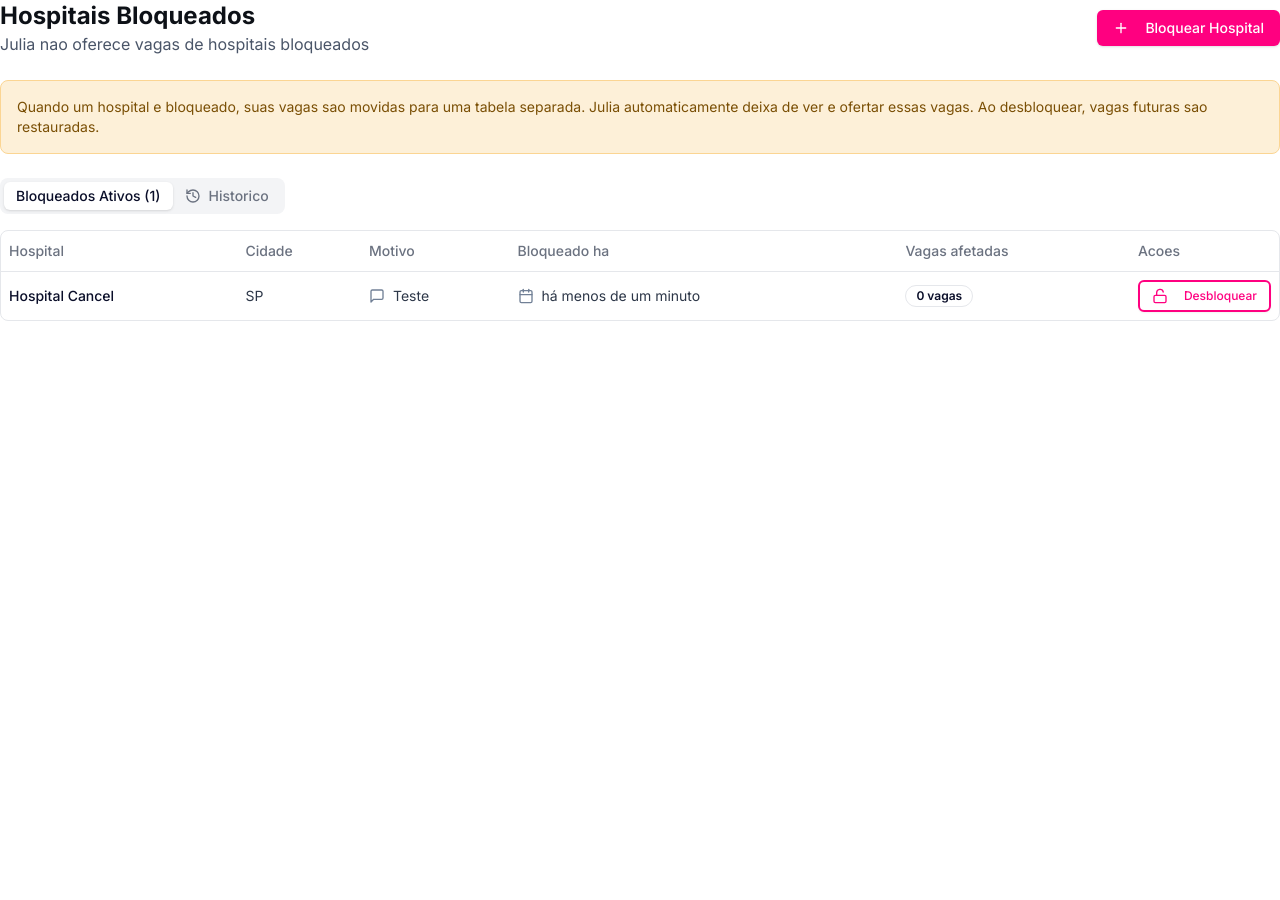
Test case: HospitaisBloqueadosPage › closes confirmation dialog when cancel is clicked
Expected: the text "Hospital Cancel" is shown, x1=1 y1=271 x2=237 y2=320
# Click desbloquear
Click the button "Desbloquear": (1204, 296) x1=1138 y1=280 x2=1271 y2=312
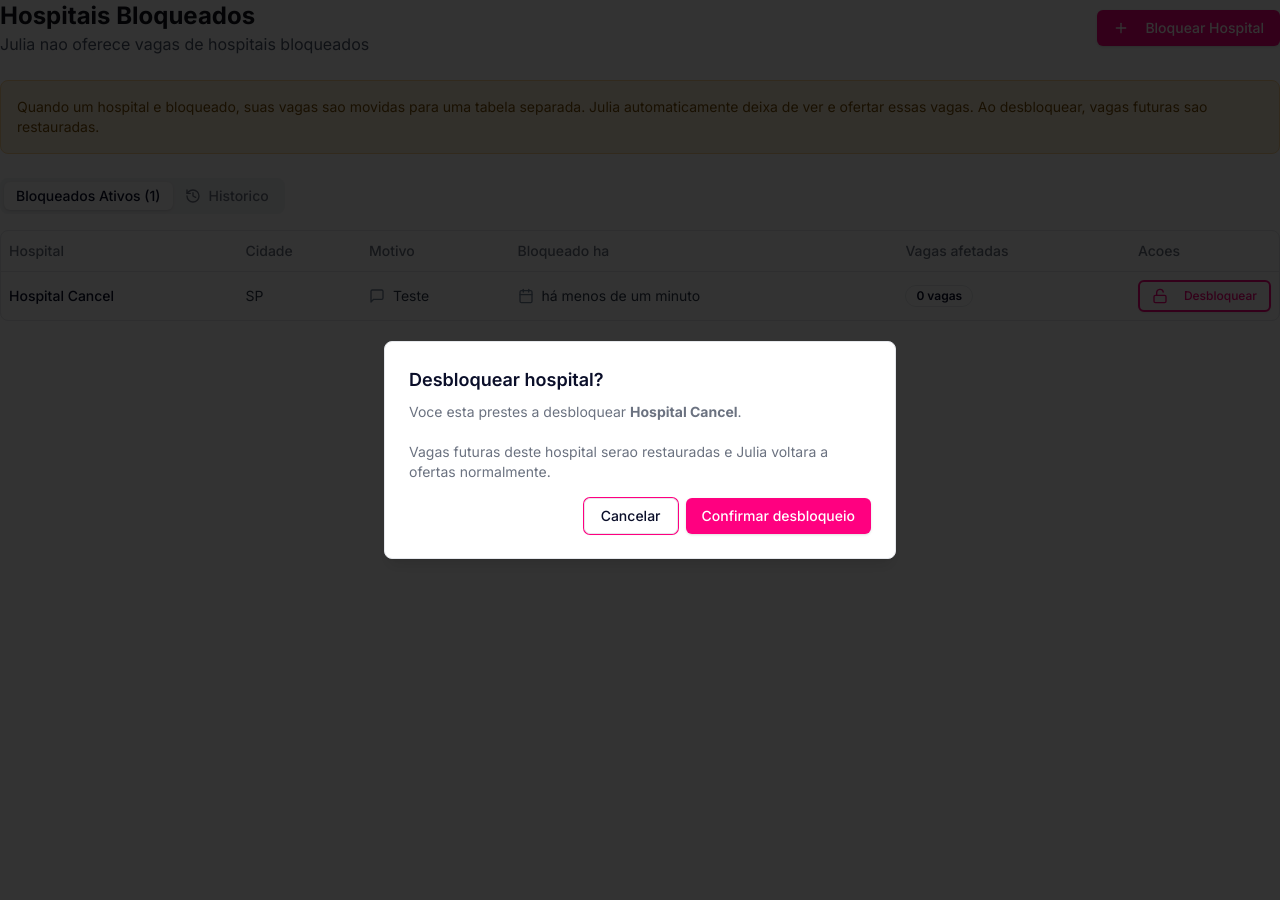
Result: the dialog is shown at x1=384 y1=341 x2=896 y2=559
# Click cancel
Click the button "Cancelar": (631, 516) x1=584 y1=498 x2=678 y2=534
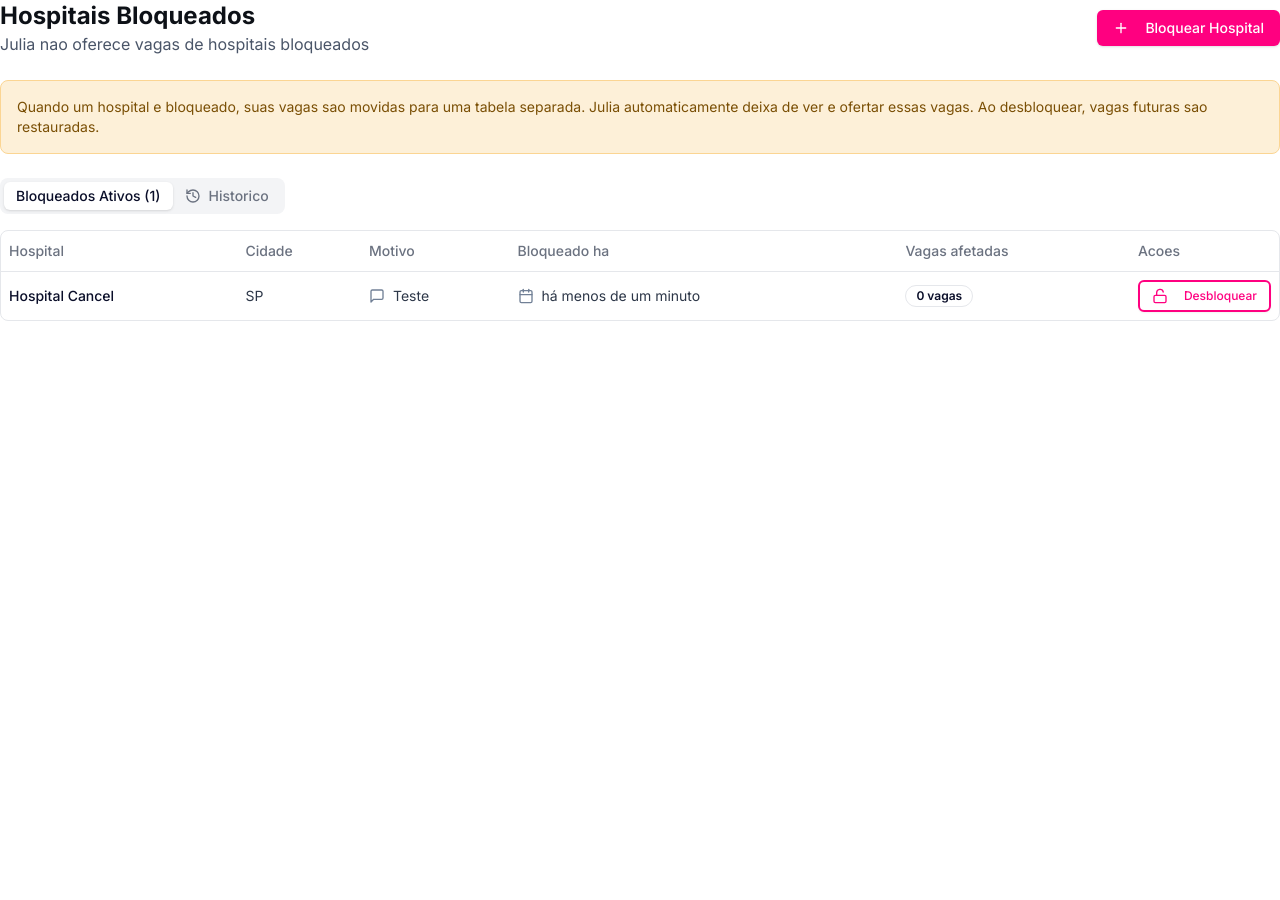
Result: the dialog is gone
